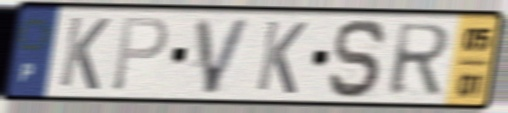K: (56, 13, 113, 93), (253, 17, 310, 97)
P: (108, 15, 172, 94)
R: (386, 21, 455, 98)
S: (326, 16, 390, 101)
V: (192, 16, 255, 97)
